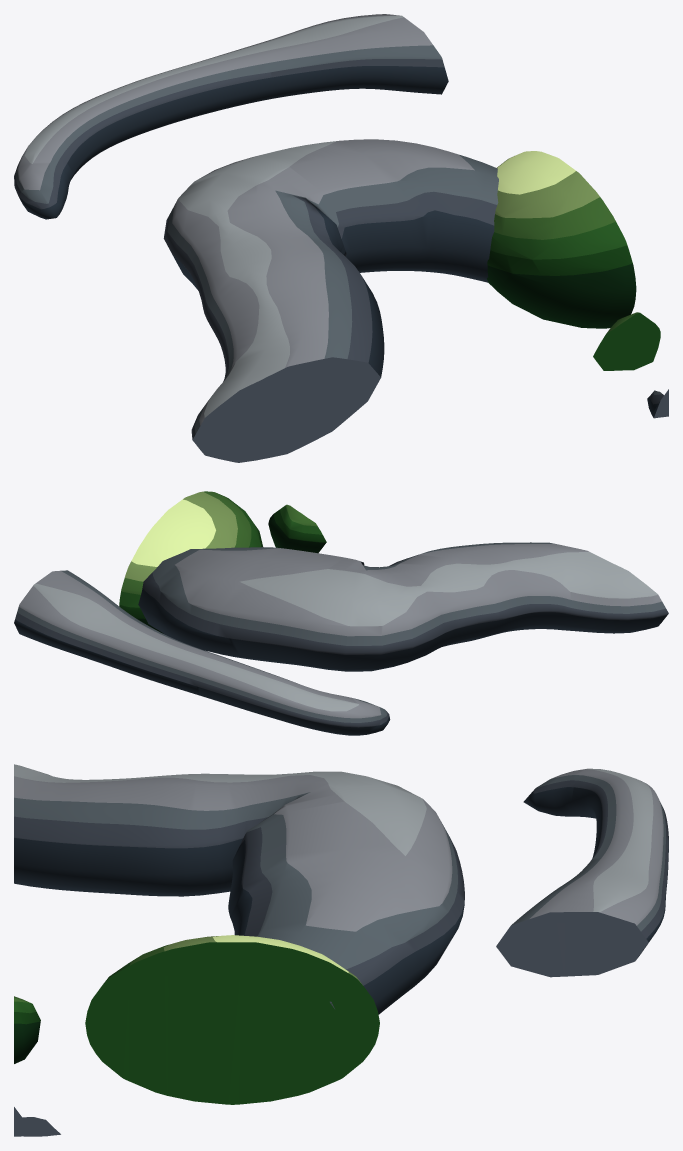
Rendered from torm_beetle_tl.glb.
3 views of the same model, one above another, from view 1: azimuth 30°, elevation 25°; view 2: azimuth 150°, elevation 25°; view 3: azimuth 270°, elevation 25° (orthographic). The views are drawn at different scales.
Parts seen in each view (by area): view 1: torm_beetle_tl; view 2: torm_beetle_tl; view 3: torm_beetle_tl.
Boxes of the visible parts, x1,y1,x2,y2 form: torm_beetle_tl: (14,14,668,462); torm_beetle_tl: (14,491,668,735); torm_beetle_tl: (14,764,668,1136).
Size of the model in its own units: 20.1 by 8.28 by 21.87.
